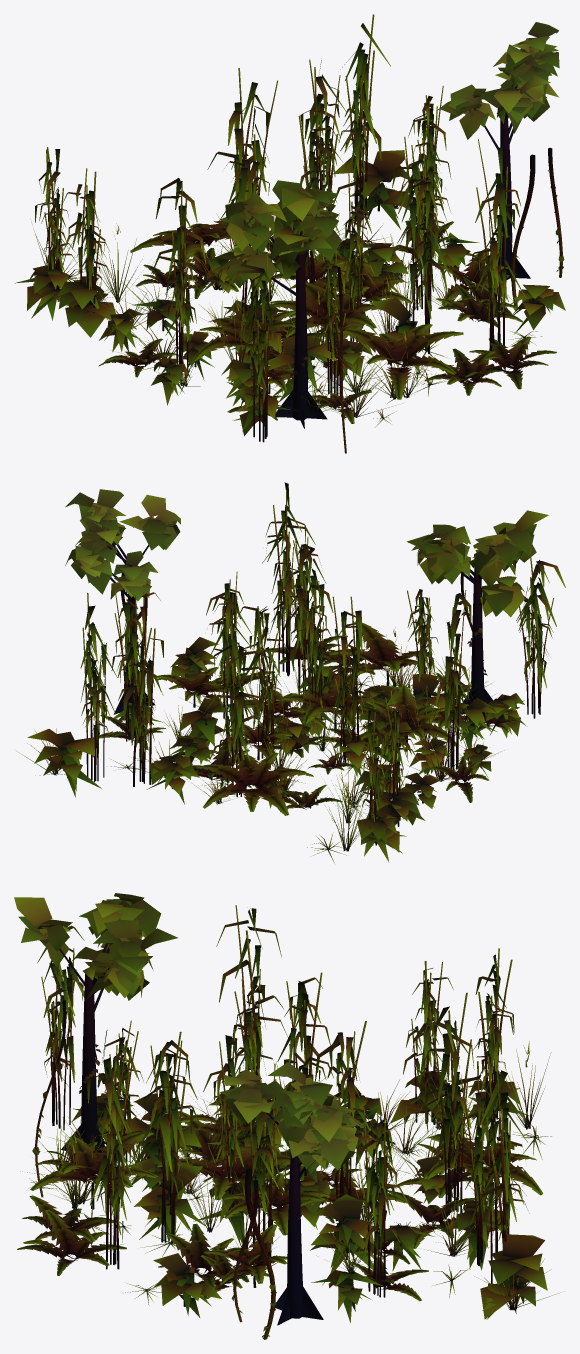
The model's file is patch_secondary.glb.
3 views of the same model, one above another, from view 1: azimuth 30°, elevation 25°; view 2: azimuth 150°, elevation 25°; view 3: azimuth 270°, elevation 25° (orthographic). The views are drawn at different scales.
Parts seen in each view (by area): view 1: patch_secondary; view 2: patch_secondary; view 3: patch_secondary.
Boxes of the visible parts, left/top/right/bottom form: patch_secondary: left=15, top=14, right=565, bottom=453; patch_secondary: left=17, top=482, right=565, bottom=863; patch_secondary: left=14, top=893, right=559, bottom=1339.
Size of the model in its own units: 17.72 by 9.54 by 16.39.
Materials: 1 (1 with a texture image).
